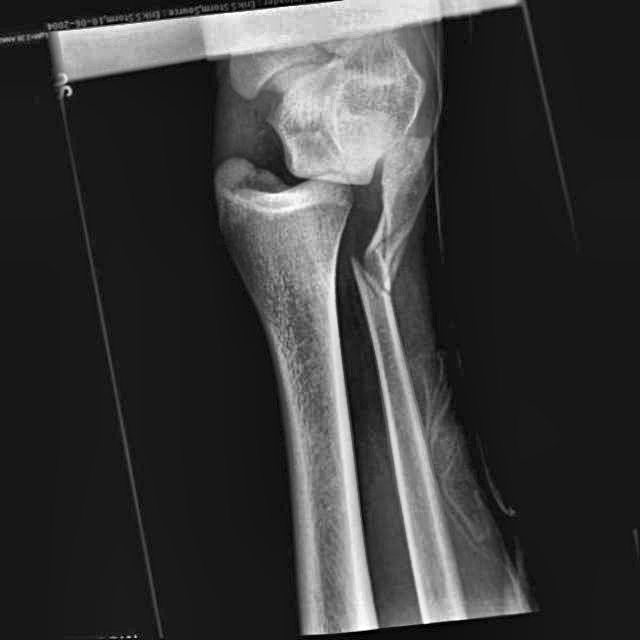Oblique Displaced: (342, 213, 410, 312)
